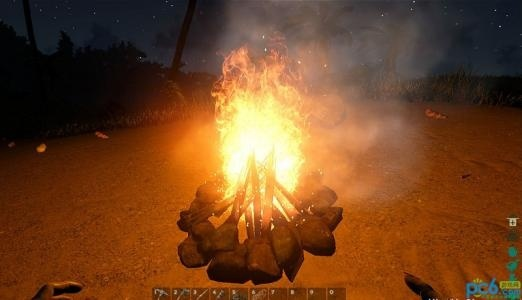fire: (213, 43, 311, 221), (422, 104, 447, 122)
